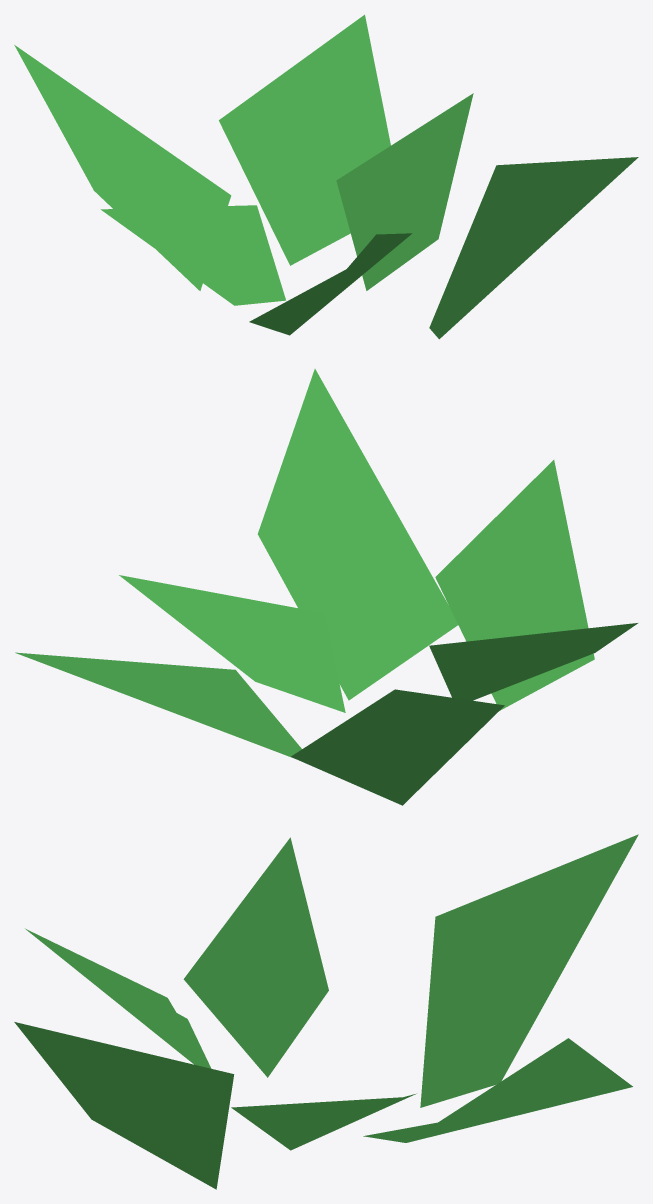
Rendered from lettuce_stage_1.glb.
3 views of the same model, one above another, from view 1: azimuth 30°, elevation 25°; view 2: azimuth 150°, elevation 25°; view 3: azimuth 270°, elevation 25° (orthographic). The views are drawn at different scales.
Parts seen in each view (by area): view 1: Plane.005, Plane.004, Plane.002, Plane.003, Plane.006, Plane.001; view 2: Plane.004, Plane.001, Plane.003, Plane.002, Plane.005, Plane.006; view 3: Plane.003, Plane.006, Plane.004, Plane.005, Plane.001, Plane.002.
Part boxes in pixels (x1,y1,x2,y2): Plane.005: (219, 14, 390, 265); Plane.004: (429, 157, 638, 339); Plane.002: (336, 93, 473, 290); Plane.003: (14, 45, 231, 290); Plane.006: (100, 205, 285, 305); Plane.001: (249, 233, 412, 335); Plane.004: (257, 369, 457, 700); Plane.001: (435, 460, 594, 710); Plane.003: (291, 689, 504, 805); Plane.002: (119, 575, 345, 712); Plane.005: (15, 652, 301, 757); Plane.006: (429, 623, 637, 700); Plane.003: (420, 834, 638, 1107); Plane.006: (183, 837, 328, 1077); Plane.004: (14, 1022, 234, 1189); Plane.005: (363, 1038, 632, 1142); Plane.001: (25, 928, 211, 1068); Plane.002: (231, 1093, 416, 1150).
Size of the model in its own units: 0.8373 by 0.3917 by 0.9466.
